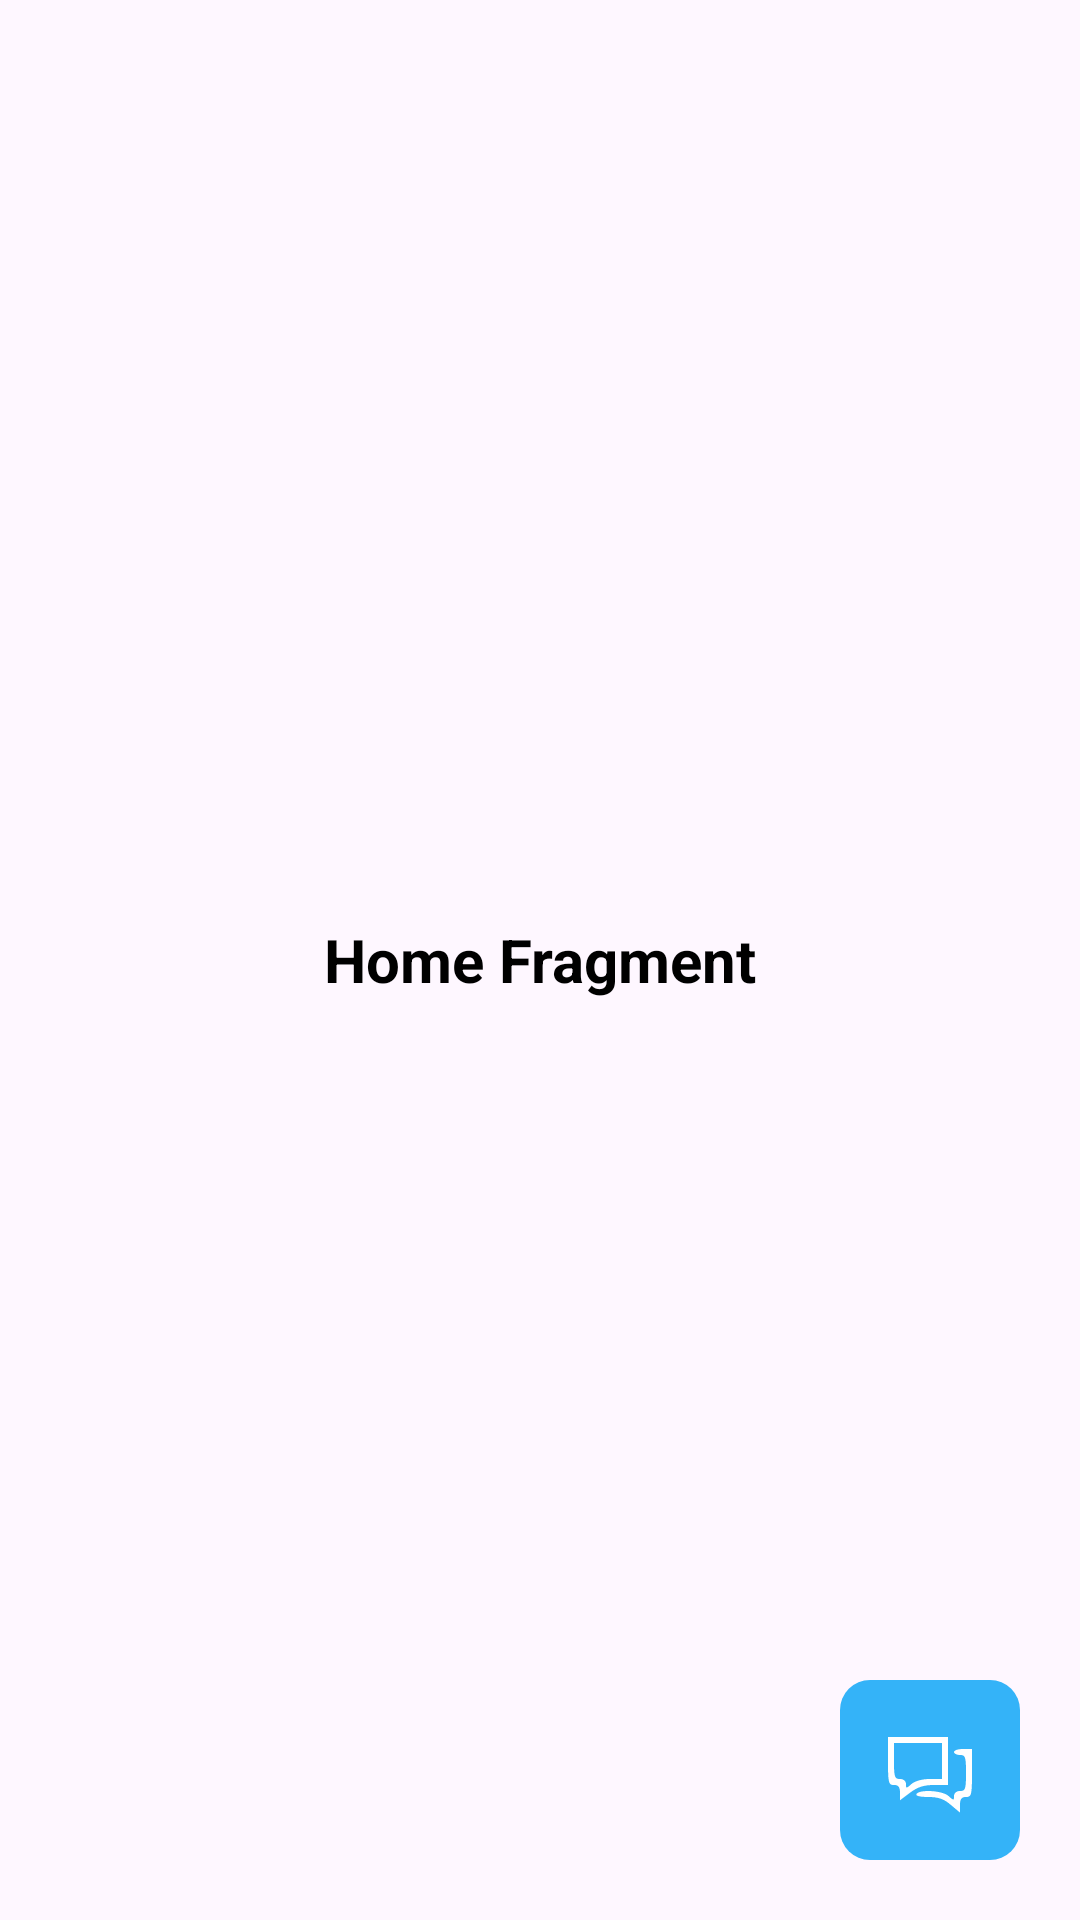

Icons on this 1080px×1920px Android screen, each with the point to tap as (x=x, y=y):
chat: (x=930, y=1770)
